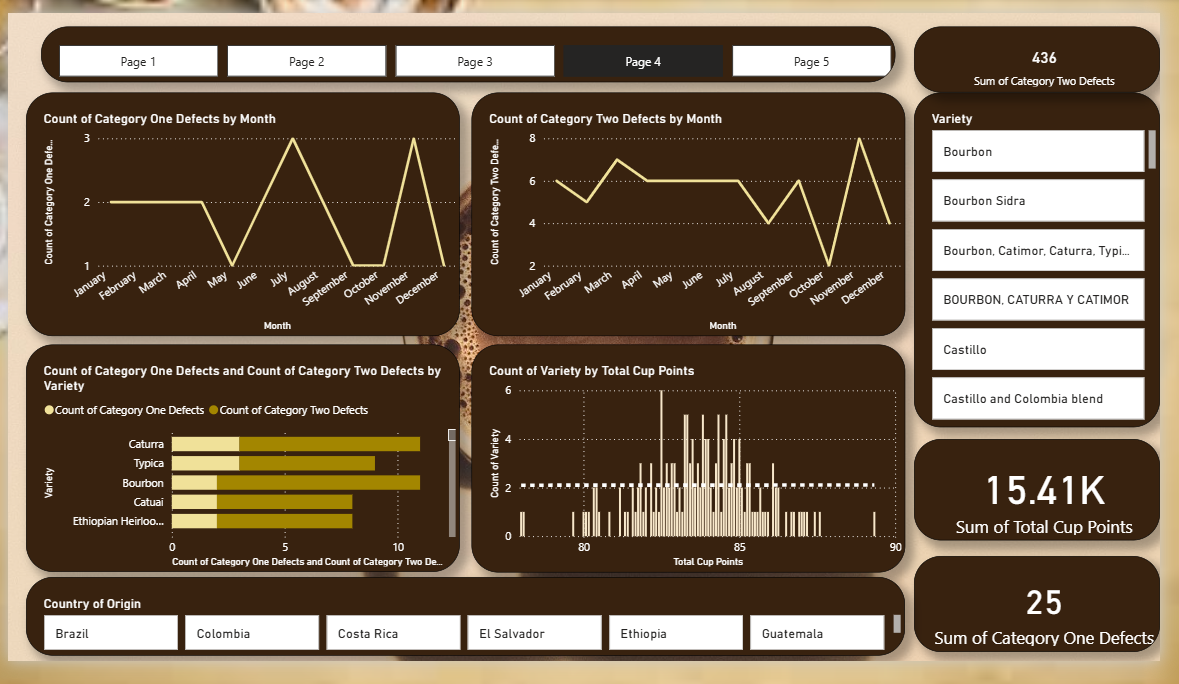

The page's visual inventory and layout, read from the dashboard file:
{"tool":"powerbi","page":{"name":"Page 4","canvas":[1280,720],"ordinal":3},"visuals":[{"type":"pageNavigator","box":[36.6,14.3,949.6,62],"z":0},{"type":"lineChart","fields":{"Category":["df_arabica_clean csv.Grading Date.Variation.Date Hierarchy.Year","df_arabica_clean csv.Grading Date.Variation.Date Hierarchy.Quarter","df_arabica_clean csv.Grading Date.Variation.Date Hierarchy.Month","df_arabica_clean csv.Grading Date.Variation.Date Hierarchy.Day"],"Y":["Count(df_arabica_clean csv.Category One Defects)"]},"box":[20.7,89.1,482,270.4],"z":1000},{"type":"lineChart","fields":{"Category":["df_arabica_clean csv.Grading Date.Variation.Date Hierarchy.Year","df_arabica_clean csv.Grading Date.Variation.Date Hierarchy.Quarter","df_arabica_clean csv.Grading Date.Variation.Date Hierarchy.Month","df_arabica_clean csv.Grading Date.Variation.Date Hierarchy.Day"],"Y":["Count(df_arabica_clean csv.Category Two Defects)"]},"box":[515.4,89.1,482,270.4],"z":2000},{"type":"barChart","fields":{"Y":["Count(df_arabica_clean csv.Category One Defects)","Count(df_arabica_clean csv.Category Two Defects)"],"Category":["df_arabica_clean csv.Variety"]},"box":[20.7,369,482,252.9],"z":3000},{"type":"lineClusteredColumnComboChart","fields":{"Category":["df_arabica_clean csv.Total Cup Points"],"Y":["Count(df_arabica_clean csv.Variety)"]},"box":[515,369,482,253],"z":4000},{"type":"advancedSlicerVisual","fields":{"Values":["df_arabica_clean csv.Variety"]},"box":[1006.9,89.1,273.6,372.2],"z":5000},{"type":"card","fields":{"Values":["Sum(df_arabica_clean csv.Total Cup Points)"]},"box":[1006.9,474,273.6,112.9],"z":6000},{"type":"card","fields":{"Values":["Sum(df_arabica_clean csv.Category One Defects)"]},"box":[1006.9,602.8,273.6,106.6],"z":7000},{"type":"card","fields":{"Values":["Sum(df_arabica_clean csv.Category Two Defects)"]},"box":[1006.9,14.3,273.6,73.2],"z":8000},{"type":"advancedSlicerVisual","fields":{"Values":["df_arabica_clean csv.Country of Origin"]},"box":[20.7,627,976.6,87.5],"z":9000}]}

Visuals, with their boxes on the page's 1280x720 design canvas (x1, y1, x2, y2). These are canvas units, not pixel positions in the 1179x684 screenshot, which may show the page scaled, cropped or inside an application window:
pageNavigator: {"left": 37, "top": 14, "right": 986, "bottom": 76}
lineChart - df_arabica_clean csv.Grading Date.Variation.Date Hierarchy.Year x df_arabica_clean csv.Grading Date.Variation.Date Hierarchy.Quarter: {"left": 21, "top": 89, "right": 503, "bottom": 360}
lineChart - df_arabica_clean csv.Grading Date.Variation.Date Hierarchy.Year x df_arabica_clean csv.Grading Date.Variation.Date Hierarchy.Quarter: {"left": 515, "top": 89, "right": 997, "bottom": 360}
barChart - Count(df_arabica_clean csv.Category One Defects) x Count(df_arabica_clean csv.Category Two Defects): {"left": 21, "top": 369, "right": 503, "bottom": 622}
lineClusteredColumnComboChart - df_arabica_clean csv.Total Cup Points x Count(df_arabica_clean csv.Variety): {"left": 515, "top": 369, "right": 997, "bottom": 622}
advancedSlicerVisual - df_arabica_clean csv.Variety: {"left": 1007, "top": 89, "right": 1280, "bottom": 461}
card - Sum(df_arabica_clean csv.Total Cup Points): {"left": 1007, "top": 474, "right": 1280, "bottom": 587}
card - Sum(df_arabica_clean csv.Category One Defects): {"left": 1007, "top": 603, "right": 1280, "bottom": 709}
card - Sum(df_arabica_clean csv.Category Two Defects): {"left": 1007, "top": 14, "right": 1280, "bottom": 88}
advancedSlicerVisual - df_arabica_clean csv.Country of Origin: {"left": 21, "top": 627, "right": 997, "bottom": 714}
